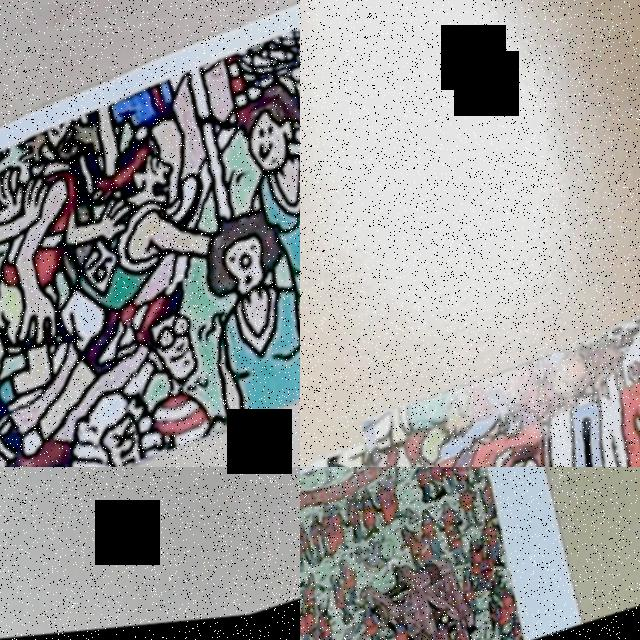waldo: (119, 281, 224, 410), (487, 437, 559, 467), (316, 627, 333, 640)
